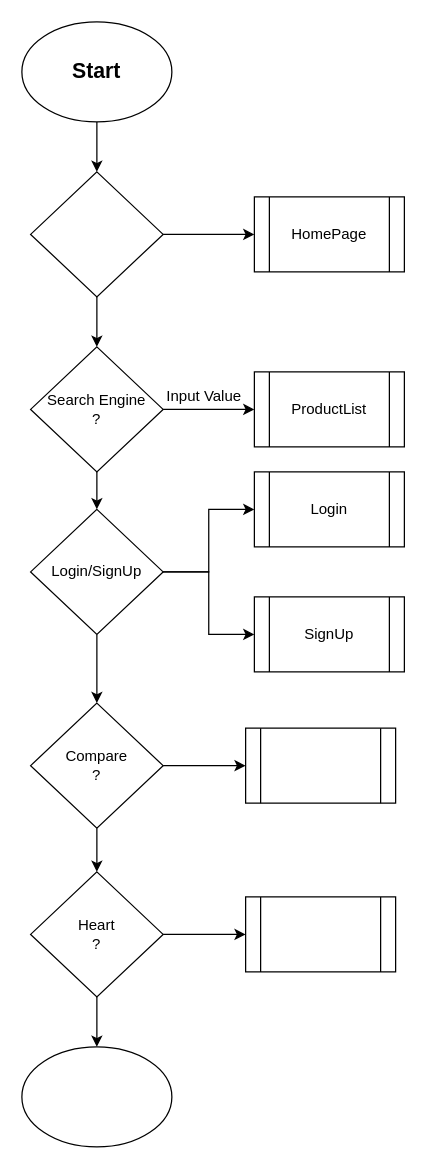
This 426x1169 diagram has some shape labels left out. The shapes that lost their labels are listed below. From the top down, each one's centre as x and y in pixels, then its label:
At point (96, 234): "Fingers Logo ?".
At point (320, 765): "Compare".
At point (320, 934): "Heart".
At point (96, 1096): "END".
